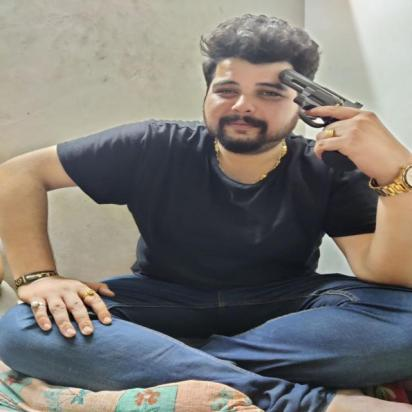Gun: (271, 61, 388, 178)
